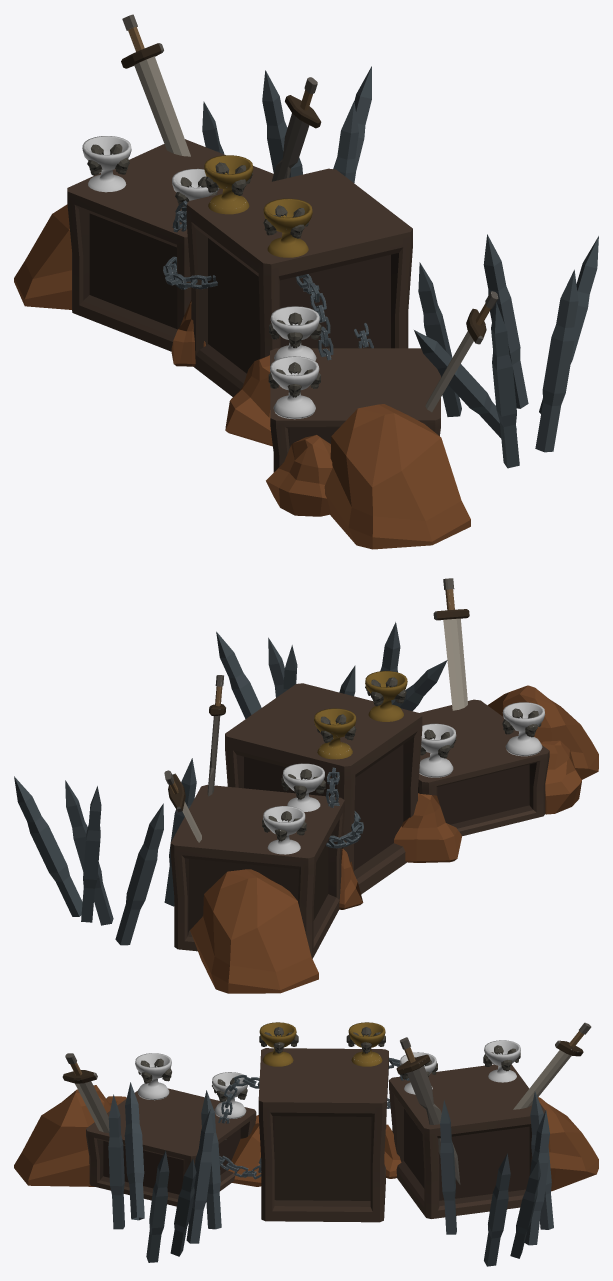
Rendered from Podium_001_Environment_001_Winner.fbx.
3 views of the same model, one above another, from view 1: azimuth 30°, elevation 25°; view 2: azimuth 150°, elevation 25°; view 3: azimuth 270°, elevation 25° (orthographic). The views are drawn at different scales.
Visible parts, largest first — view 1: polySurface240, polySurface271, polySurface181, polySurface239, polySurface192, polySurface182, polySurface196, polySurface183, polySurface180, polySurface195, polySurface197, polySurface194 (+14 smaller); view 2: polySurface240, polySurface271, polySurface192, polySurface239, polySurface181, polySurface180, polySurface184, polySurface188, polySurface191, polySurface182, polySurface187, polySurface186 (+14 smaller); view 3: polySurface240, polySurface271, polySurface239, polySurface181, polySurface192, polySurface194, polySurface197, polySurface195, polySurface190, polySurface185, polySurface186, polySurface196 (+15 smaller).
Part boxes in pixels (x1=…): polySurface240: x1=186, y1=168, x2=412, y2=396; polySurface271: x1=67, y1=139, x2=273, y2=351; polySurface181: x1=324, y1=404, x2=470, y2=549; polySurface239: x1=270, y1=348, x2=440, y2=472; polySurface192: x1=14, y1=204, x2=71, y2=309; polySurface182: x1=266, y1=435, x2=332, y2=516; polySurface196: x1=535, y1=269, x2=578, y2=452; polySurface183: x1=121, y1=14, x2=190, y2=156; polySurface180: x1=225, y1=355, x2=272, y2=446; polySurface195: x1=491, y1=302, x2=519, y2=468; polySurface197: x1=483, y1=234, x2=528, y2=408; polySurface194: x1=414, y1=330, x2=516, y2=438; polySurface240: x1=225, y1=683, x2=422, y2=894; polySurface271: x1=170, y1=784, x2=344, y2=958; polySurface192: x1=190, y1=869, x2=318, y2=993; polySurface239: x1=418, y1=699, x2=549, y2=836; polySurface181: x1=487, y1=685, x2=598, y2=779; polySurface180: x1=394, y1=793, x2=461, y2=862; polySurface184: x1=14, y1=776, x2=82, y2=916; polySurface188: x1=115, y1=803, x2=163, y2=945; polySurface191: x1=433, y1=578, x2=469, y2=710; polySurface182: x1=541, y1=740, x2=581, y2=814; polySurface187: x1=81, y1=786, x2=101, y2=922; polySurface186: x1=65, y1=780, x2=113, y2=925; polySurface240: x1=258, y1=1048, x2=388, y2=1222; polySurface271: x1=389, y1=1064, x2=545, y2=1218; polySurface239: x1=86, y1=1088, x2=256, y2=1206; polySurface181: x1=14, y1=1085, x2=110, y2=1186; polySurface192: x1=538, y1=1097, x2=598, y2=1191; polySurface194: x1=124, y1=1082, x2=144, y2=1220; polySurface197: x1=186, y1=1109, x2=213, y2=1243; polySurface195: x1=108, y1=1094, x2=124, y2=1229; polySurface190: x1=396, y1=1037, x2=460, y2=1184; polySurface185: x1=440, y1=1100, x2=456, y2=1234; polySurface186: x1=484, y1=1153, x2=510, y2=1266; polySurface196: x1=146, y1=1150, x2=169, y2=1262.
Bounding box in the file's own units: 1194 × 806 × 2149.
